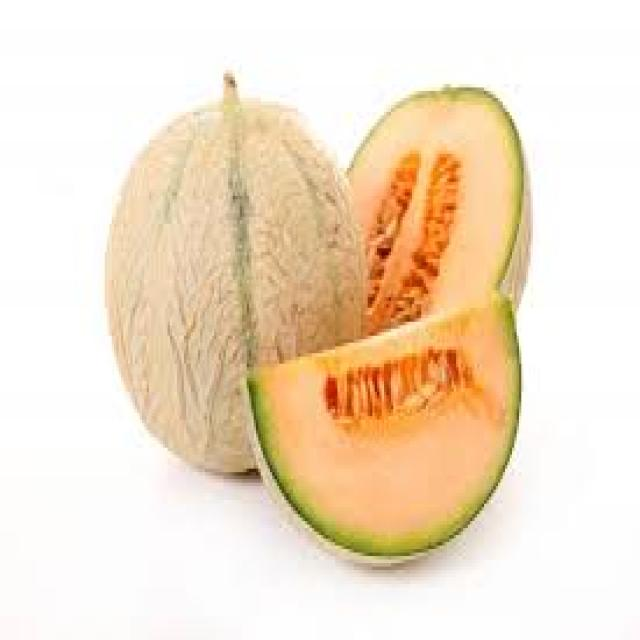cantaloupe: (106, 73, 364, 478), (245, 285, 522, 567), (348, 80, 530, 296)
